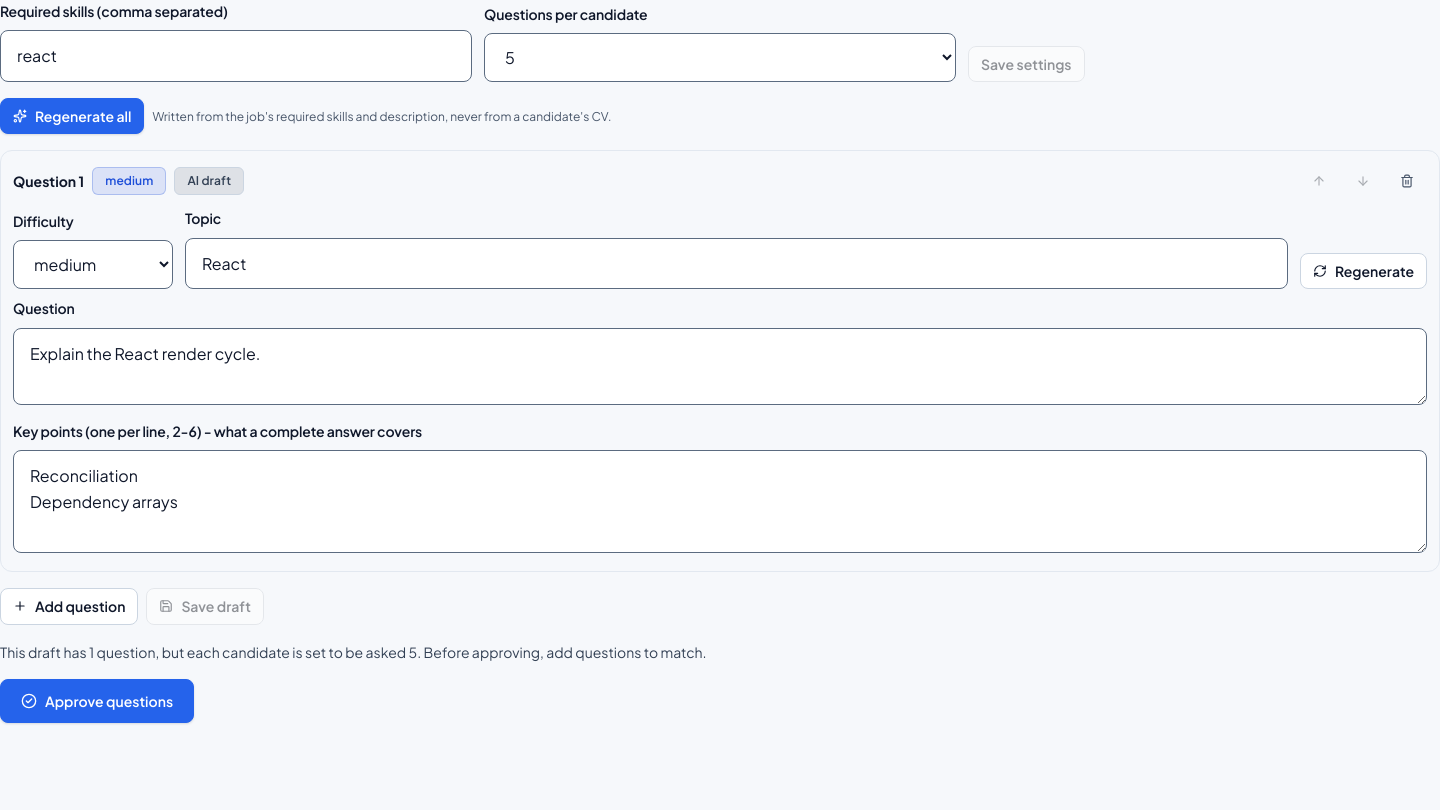
regenerating › asks before discarding a draft that has questions in it
Click the button "Regenerate all" at (72, 116), box [0,98,144,134]
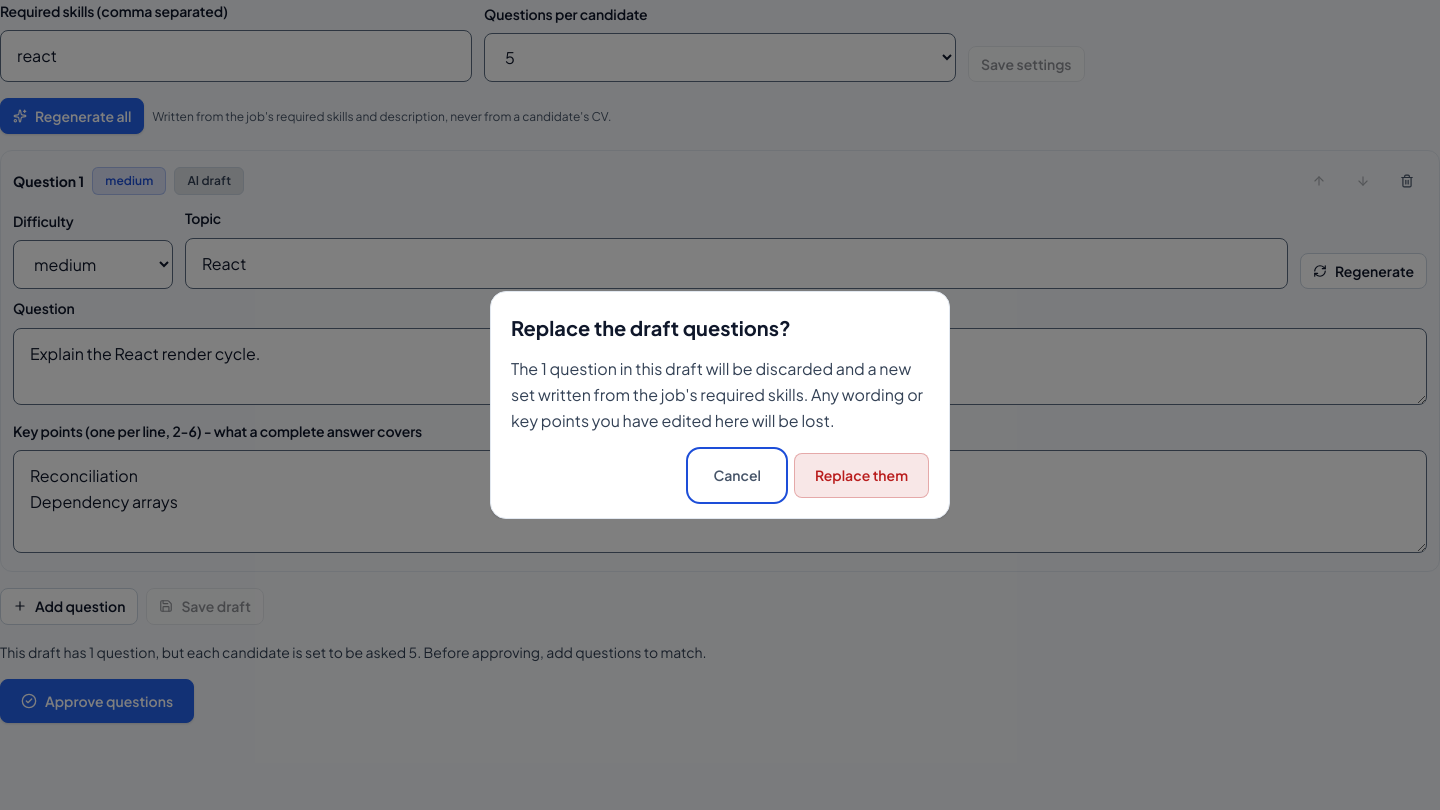
expect the dialog is shown: met
expect the dialog shows "will be discarded": met, box [511,358,923,431]
